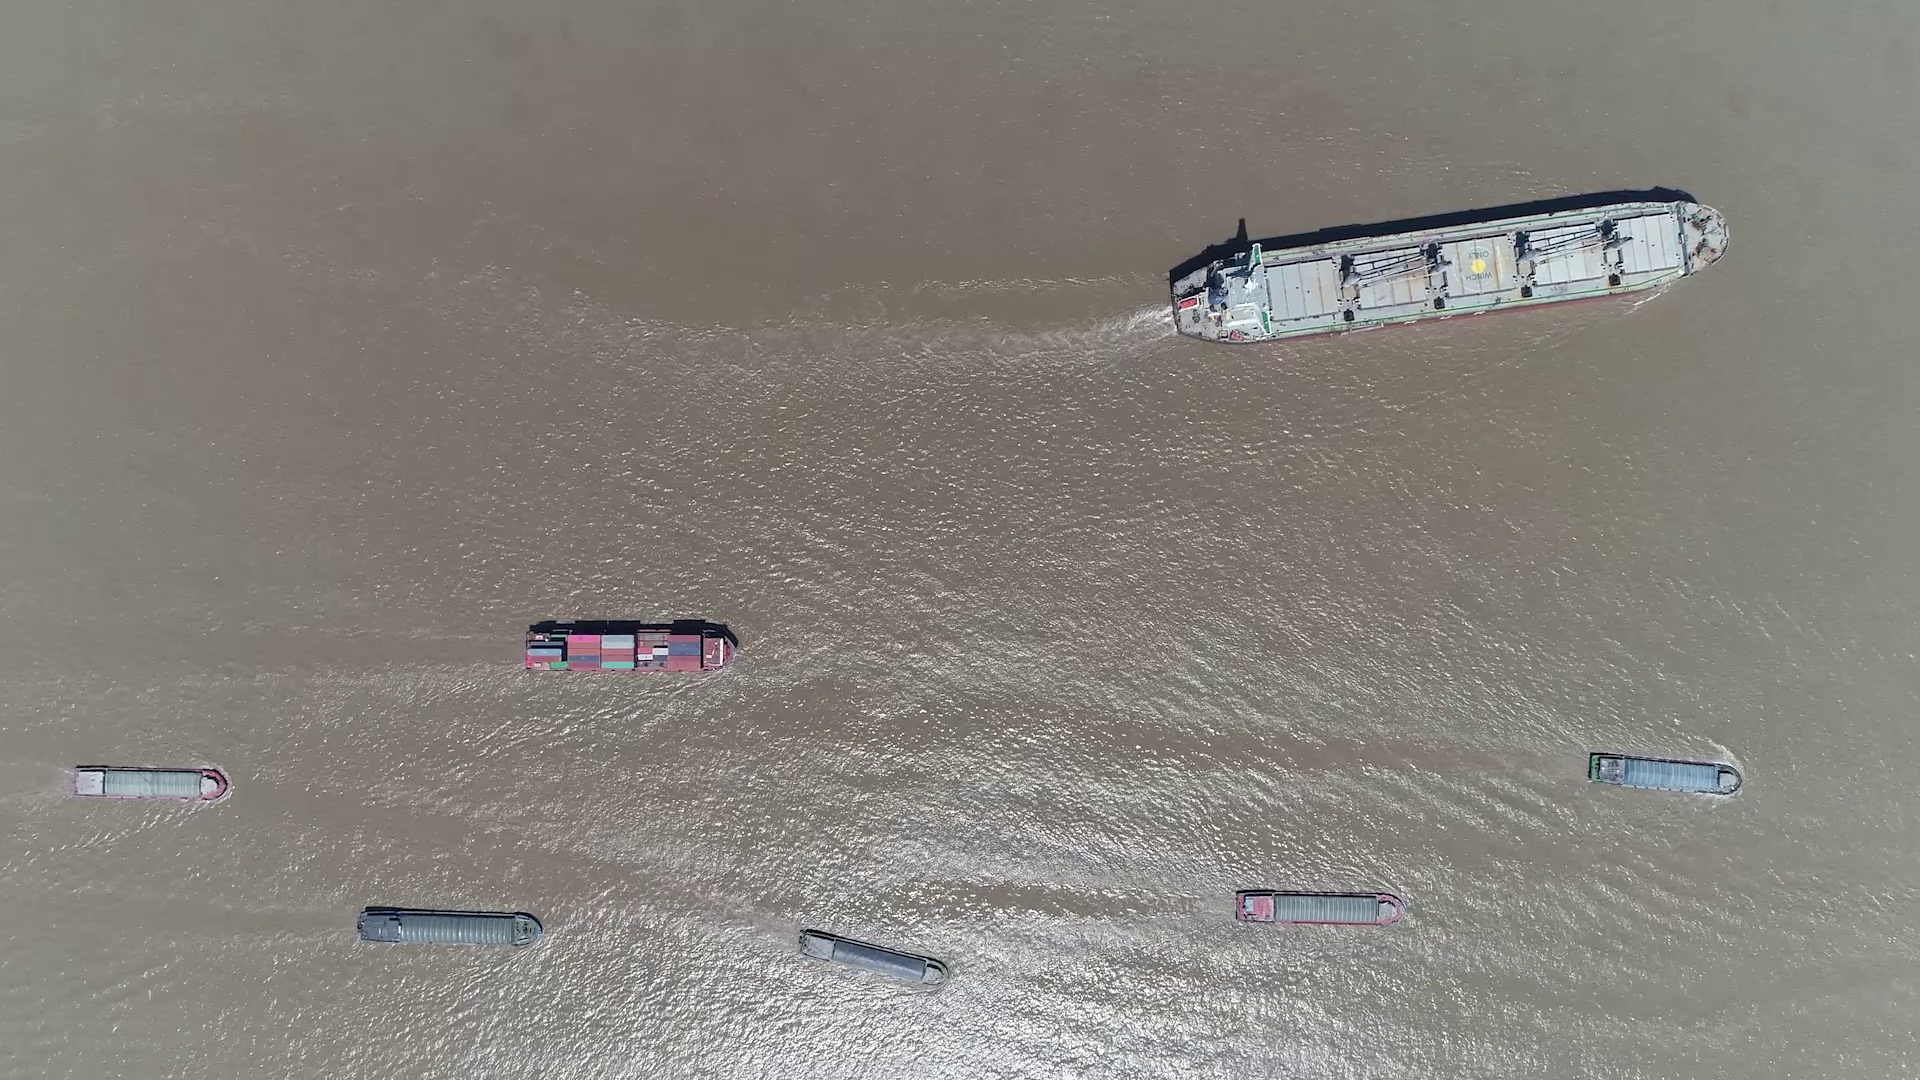ship: (1167, 200, 1729, 342), (524, 626, 738, 674), (798, 927, 945, 985), (357, 906, 541, 947), (1585, 752, 1742, 796), (1233, 890, 1406, 927), (66, 764, 228, 802)
